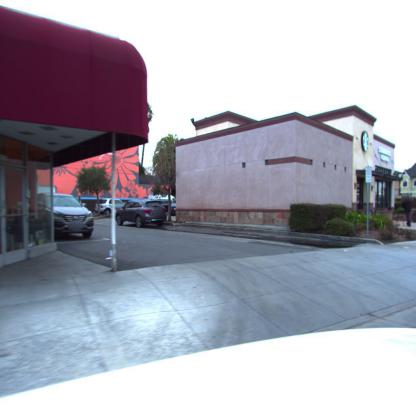car: (36, 193, 96, 239), (117, 200, 167, 228), (145, 194, 177, 218), (95, 198, 128, 217)
